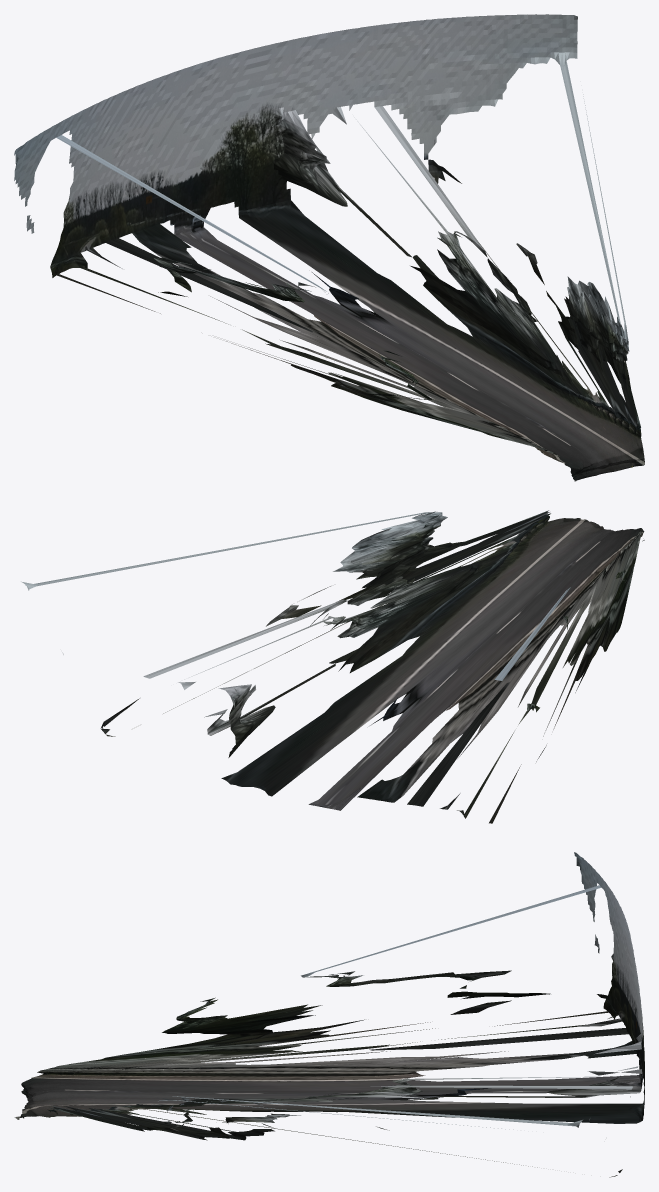
3 views of the same model, one above another, from view 1: azimuth 30°, elevation 25°; view 2: azimuth 150°, elevation 25°; view 3: azimuth 270°, elevation 25° (orthographic). The views are drawn at different scales.
Visible parts, largest first — view 1: defaultobject; view 2: defaultobject; view 3: defaultobject.
Boxes of the visible parts, x1=… form: defaultobject: x1=14, y1=14, x2=644, y2=481; defaultobject: x1=21, y1=510, x2=644, y2=823; defaultobject: x1=14, y1=852, x2=644, y2=1177.
Size of the model in its own units: 40.23 by 12.04 by 44.75.
1 material, 1 textured.
